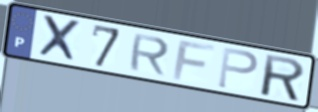7: (90, 22, 123, 68)
F: (170, 38, 218, 82)
P: (216, 45, 261, 91)
R: (260, 52, 307, 104), (126, 32, 172, 77)
X: (36, 13, 83, 65)
